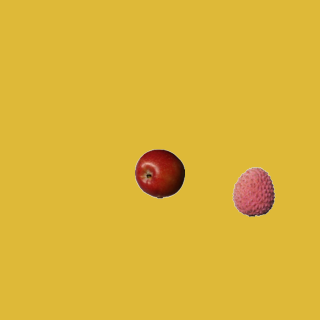Apple Braeburn: (134, 148, 184, 198)
Lychee: (228, 166, 278, 216)
